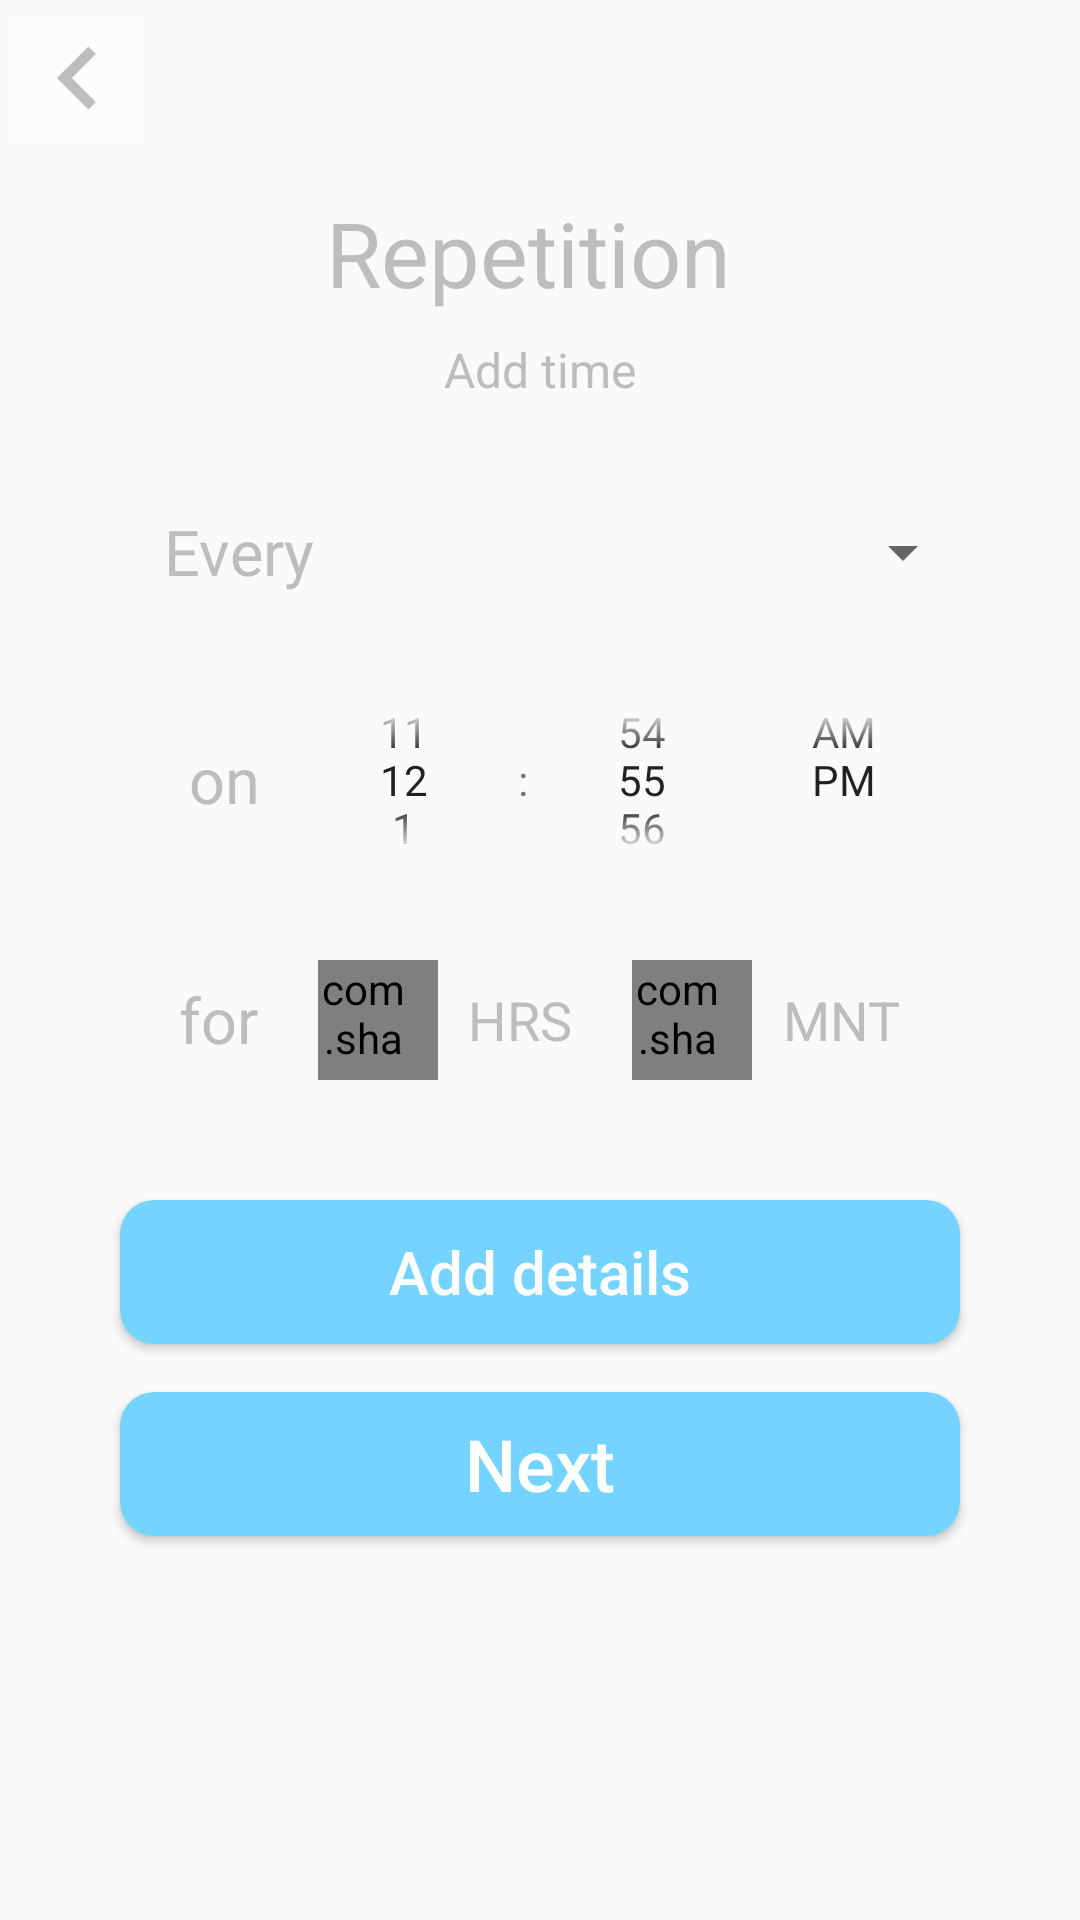

Named icons in this screenshot (1080px x 1920px) and their centers, (x,y):
back: (76,78)
